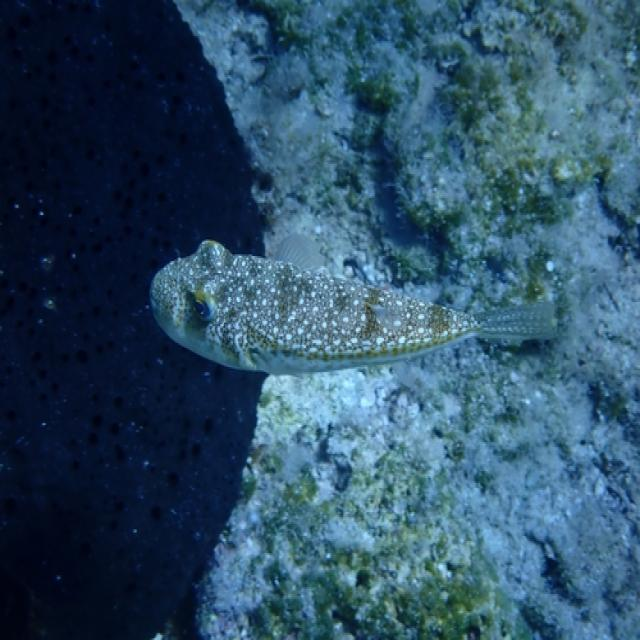Balik: (152, 236, 555, 373)
